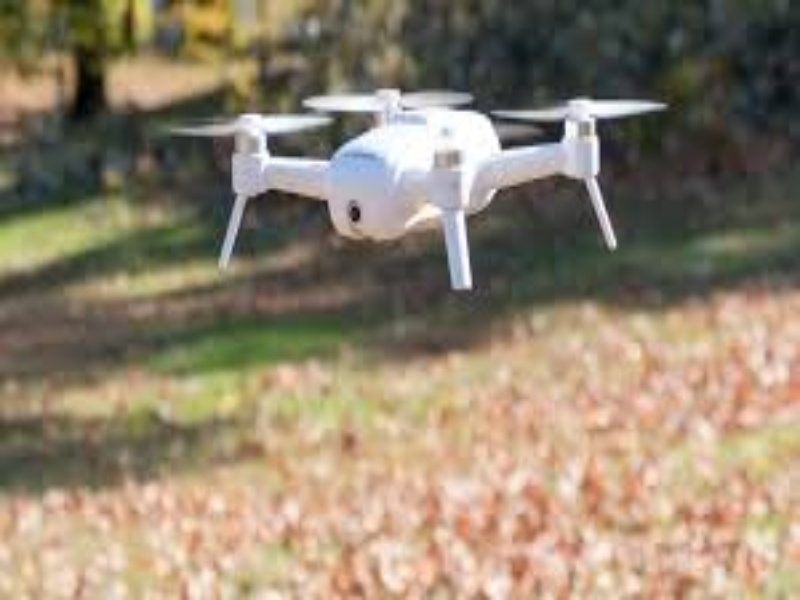drone: (189, 75, 628, 298)
